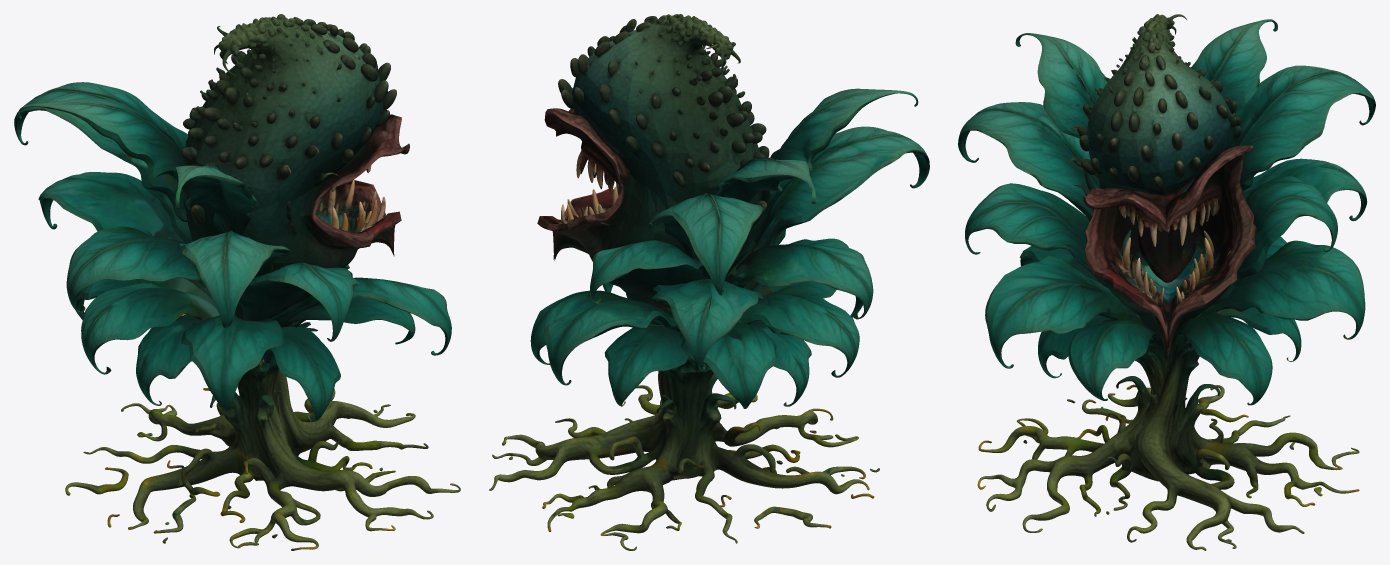
Rendered from Fleur Mstafeli.glb.
3 renders of one model, left to right at view 1: azimuth 30°, elevation 25°; view 2: azimuth 150°, elevation 25°; view 3: azimuth 270°, elevation 25°, orthographic.
Parts seen in each view (by area): view 1: tripo_node_306450be-1b8d-4782-8e76-c4b635425fa6; view 2: tripo_node_306450be-1b8d-4782-8e76-c4b635425fa6; view 3: tripo_node_306450be-1b8d-4782-8e76-c4b635425fa6.
Boxes of the visible parts, bbox=[...] form: tripo_node_306450be-1b8d-4782-8e76-c4b635425fa6: bbox=[14, 14, 460, 550]; tripo_node_306450be-1b8d-4782-8e76-c4b635425fa6: bbox=[489, 14, 929, 550]; tripo_node_306450be-1b8d-4782-8e76-c4b635425fa6: bbox=[958, 14, 1375, 550].
Bounding box in the file's own units: 0.8182 × 1 × 0.8411.
Materials: 1 (1 with a texture image).
